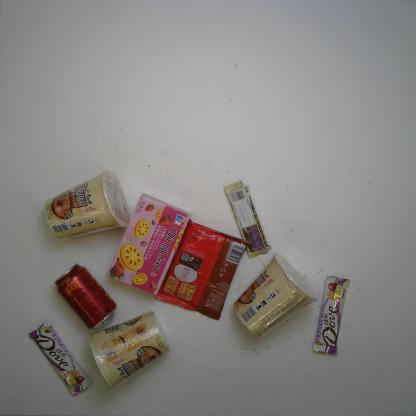Chocolate: (29, 321, 92, 397), (223, 180, 274, 258), (312, 274, 352, 356)
Dessert: (154, 218, 249, 320), (105, 193, 192, 296)
Drink: (54, 263, 116, 331)
Instant Noodles: (233, 253, 318, 338), (86, 312, 171, 392), (43, 169, 130, 239)
